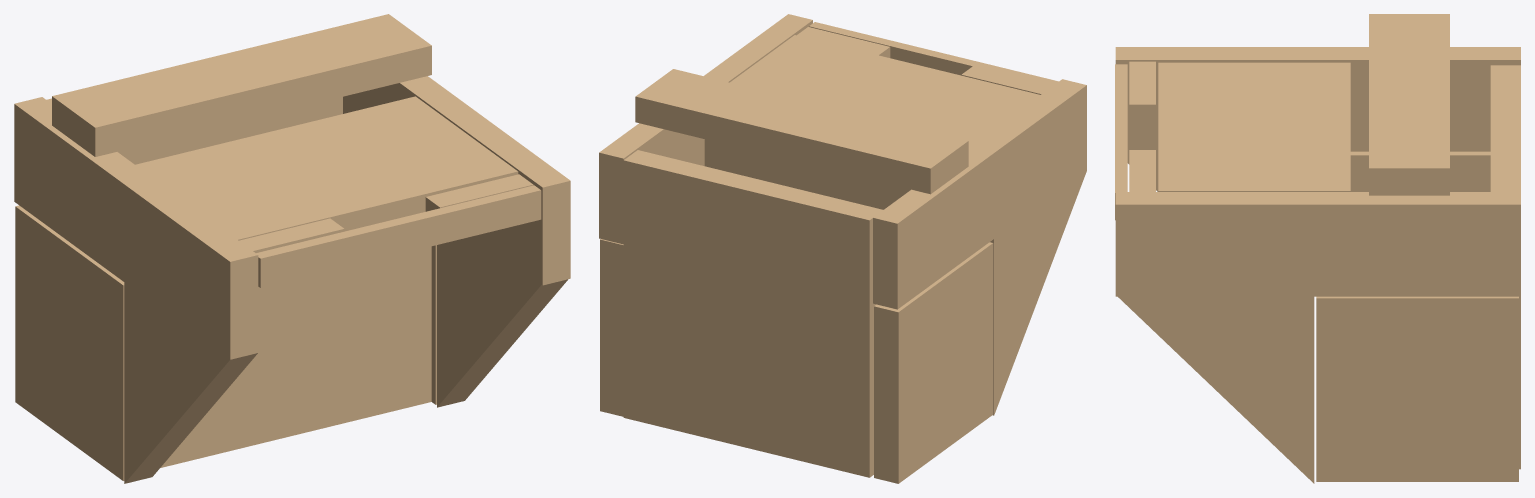
File: tinker.obj
3 renders of one model, left to right at view 1: azimuth 30°, elevation 25°; view 2: azimuth 150°, elevation 25°; view 3: azimuth 270°, elevation 25°, orthographic. The views are drawn at different scales.
Parts seen in each view (by area): view 1: obj_0; view 2: obj_0; view 3: obj_0.
Boxes of the visible parts, x1,y1,x2,y2 form: obj_0: (14, 14, 570, 483); obj_0: (599, 14, 1086, 483); obj_0: (1115, 14, 1520, 483).
Size of the model in its own units: 182 by 171 by 200.
